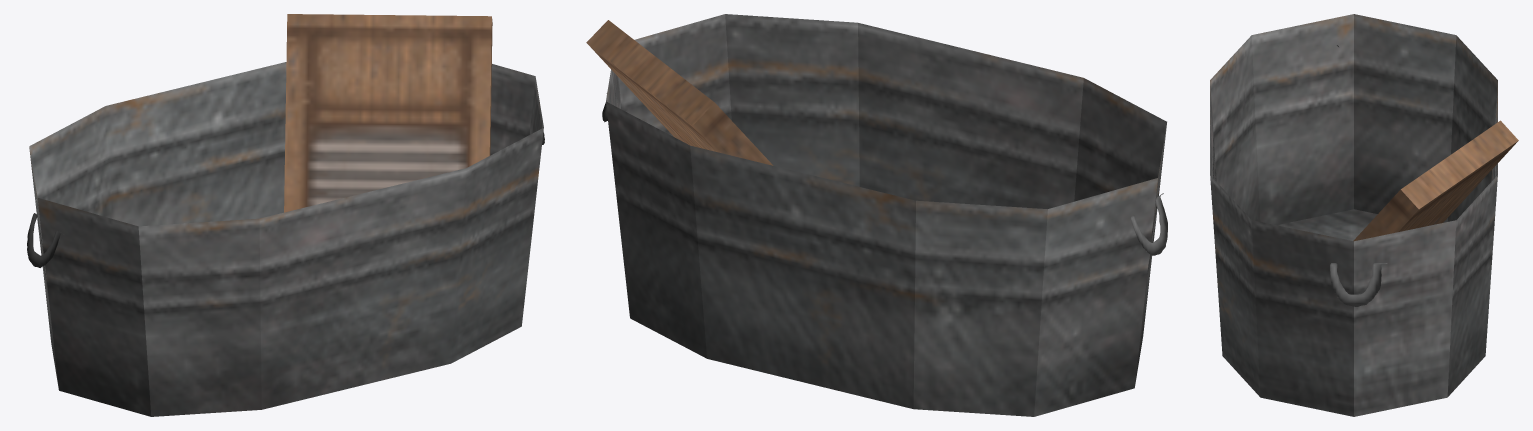
Rendered from Washing.Tub.fbx.
3 renders of one model, left to right at view 1: azimuth 30°, elevation 25°; view 2: azimuth 150°, elevation 25°; view 3: azimuth 270°, elevation 25°, orthographic. The views are drawn at different scales.
Parts seen in each view (by area): view 1: Washing.Tub; view 2: Washing.Tub; view 3: Washing.Tub.
Boxes of the visible parts, x1,y1,x2,y2 form: Washing.Tub: (27, 14, 544, 416); Washing.Tub: (586, 14, 1167, 416); Washing.Tub: (1210, 14, 1518, 416).
Bounding box in the file's own units: 67.88 × 30.92 × 37.83.
